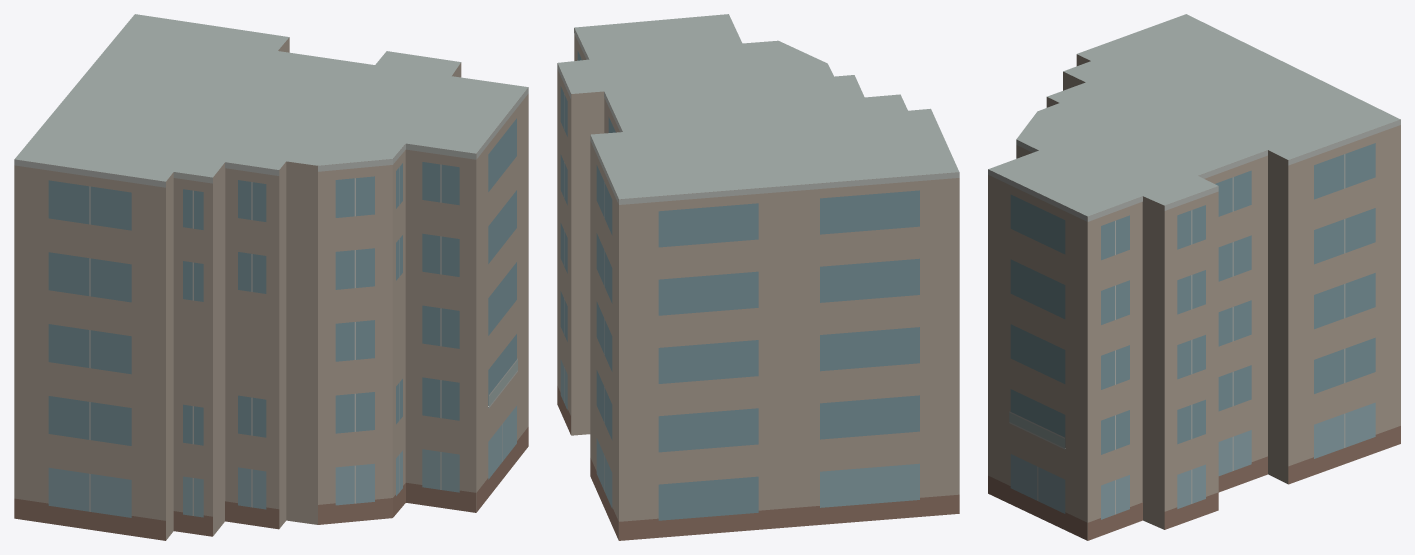
Rendered from survey-upis-32852014.glb.
3 views of the same model, side by side, from view 1: azimuth 30°, elevation 25°; view 2: azimuth 150°, elevation 25°; view 3: azimuth 270°, elevation 25° (orthographic). The views are drawn at different scales.
Visible parts, largest first — view 1: survey-upis-32852014.tmp; view 2: survey-upis-32852014.tmp; view 3: survey-upis-32852014.tmp.
Boxes of the visible parts, left/top/right/bottom form: survey-upis-32852014.tmp: left=14, top=14, right=528, bottom=540; survey-upis-32852014.tmp: left=557, top=14, right=959, bottom=540; survey-upis-32852014.tmp: left=988, top=14, right=1400, bottom=540.
Size of the model in its own units: 19.43 by 14.5 by 16.73.
